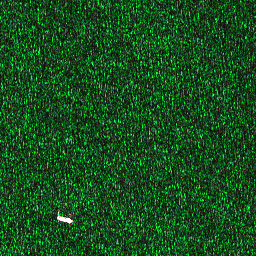ship: (54, 213, 74, 225)
